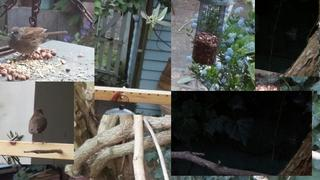dunnock: (8, 27, 68, 61)
robin: (28, 108, 47, 145)
